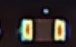COMP: (14, 14, 73, 45)
STAN: (41, 6, 50, 17)
